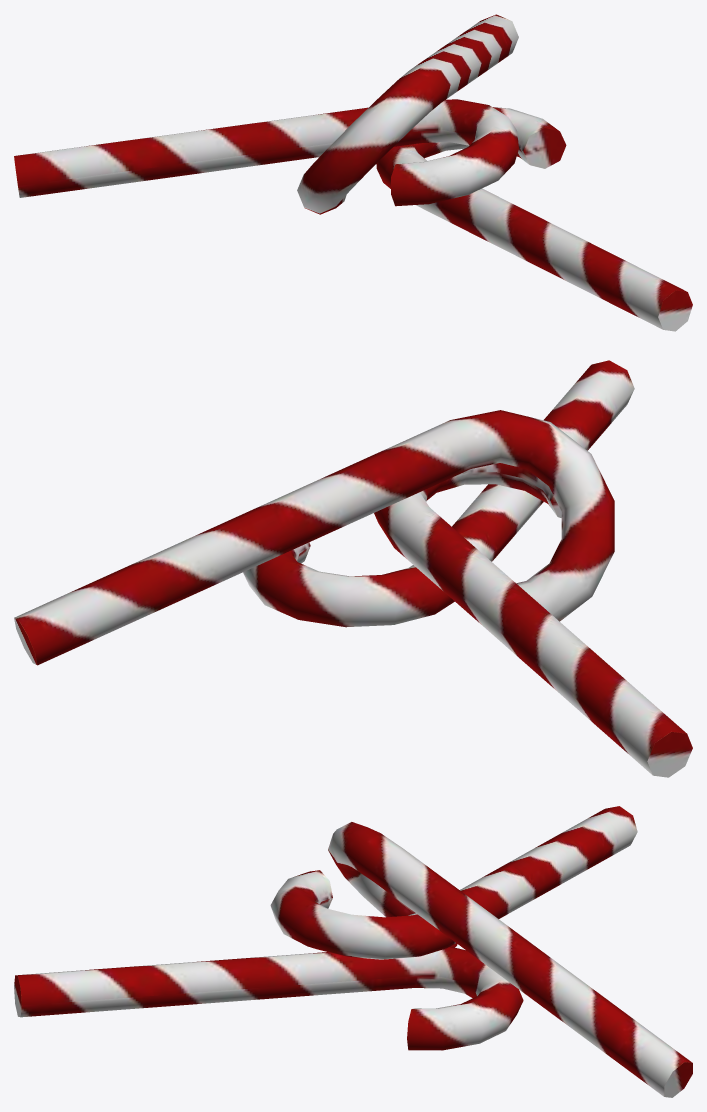
File: candycanes.worldmodel.glb
3 renders of one model, top to bottom at view 1: azimuth 30°, elevation 25°; view 2: azimuth 150°, elevation 25°; view 3: azimuth 270°, elevation 25°, orthographic. The views are drawn at different scales.
Visible parts, largest first — view 1: candycanes_worldmodel_LOD0; view 2: candycanes_worldmodel_LOD0; view 3: candycanes_worldmodel_LOD0.
Boxes of the visible parts, x1,y1,x2,y2 form: candycanes_worldmodel_LOD0: (14,14,692,331); candycanes_worldmodel_LOD0: (14,360,692,777); candycanes_worldmodel_LOD0: (14,806,692,1097).
Size of the model in its own units: 0.4287 by 0.1191 by 0.4774.
1 material, 1 textured.
